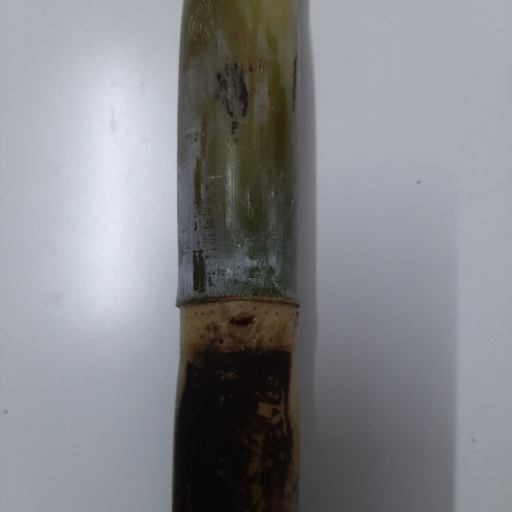Damage_Bud: (228, 312, 259, 347)
